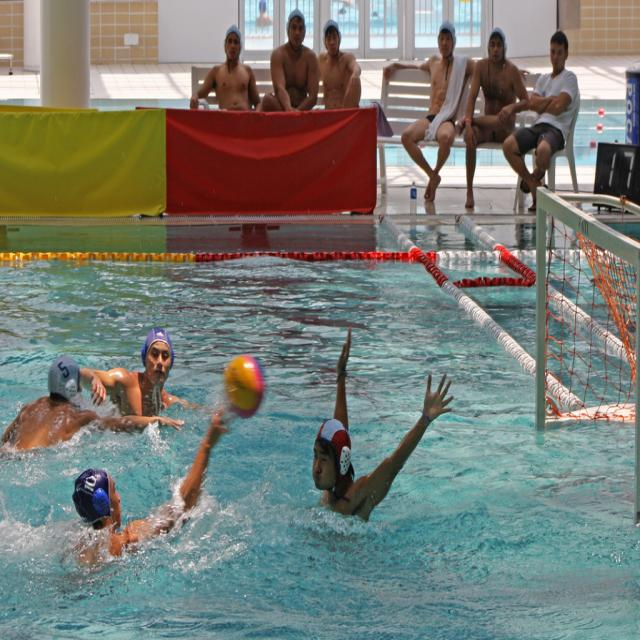Ball: (225, 355, 266, 420)
